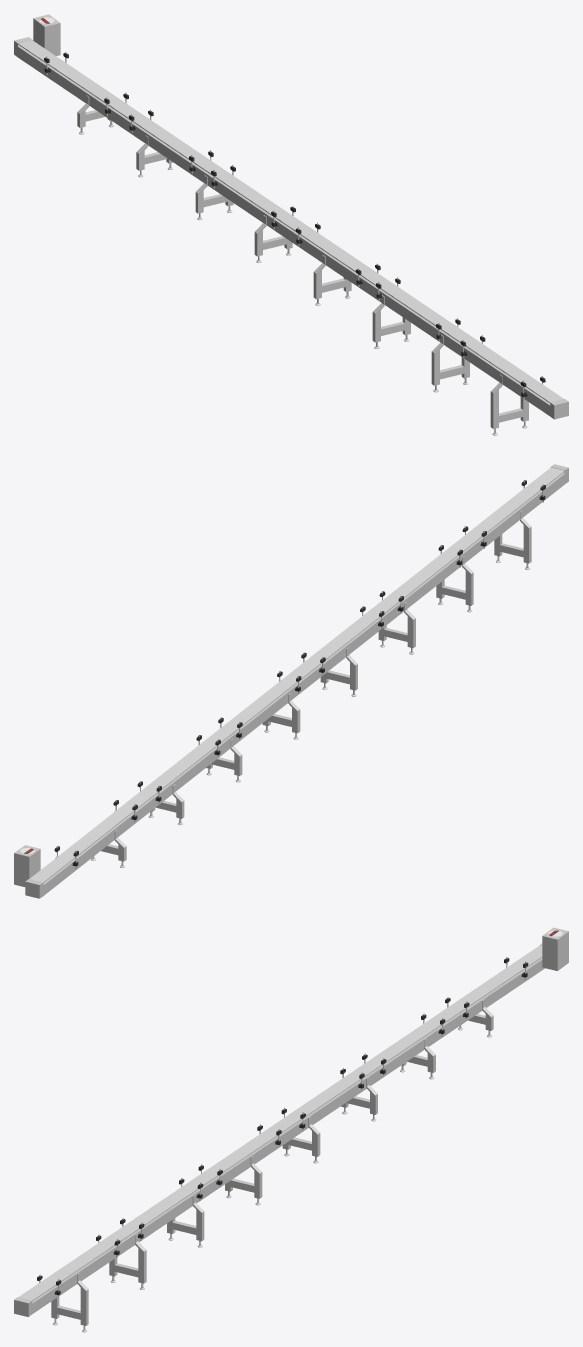
File: Conv_New.fbx
3 views of the same model, one above another, from view 1: azimuth 30°, elevation 25°; view 2: azimuth 150°, elevation 25°; view 3: azimuth 330°, elevation 25° (orthographic). The views are drawn at different scales.
Visible parts, largest first — view 1: Plane.003; view 2: Plane.003; view 3: Plane.003.
Boxes of the visible parts, x1,y1,x2,y2 form: Plane.003: (14,14,568,435); Plane.003: (14,464,568,898); Plane.003: (14,927,568,1332).
Size of the model in its own units: 52.38 by 83.13 by 1168.
